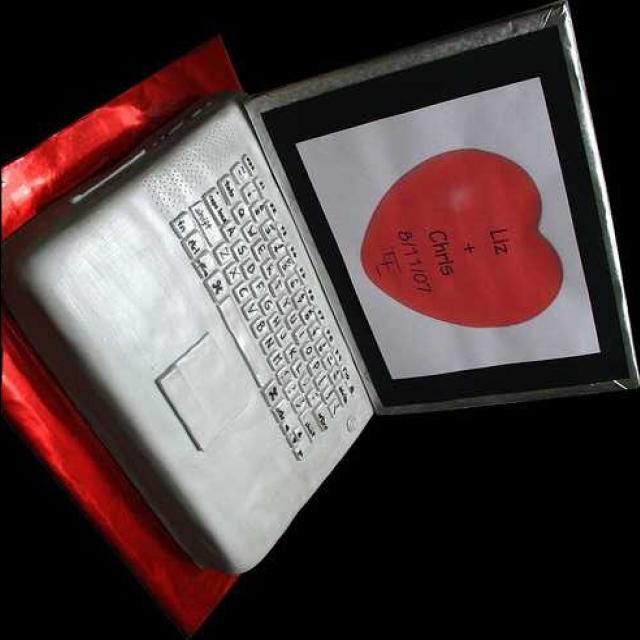laptop: (78, 21, 622, 562)
